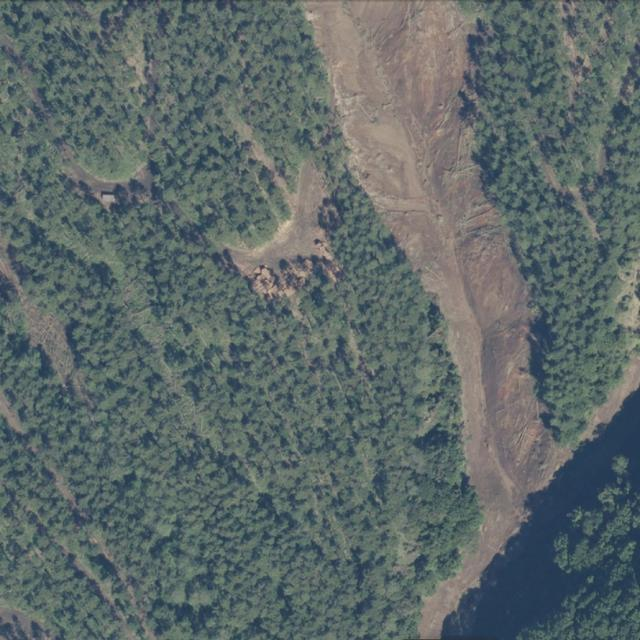landslide: (306, 1, 573, 639), (226, 161, 337, 300)
